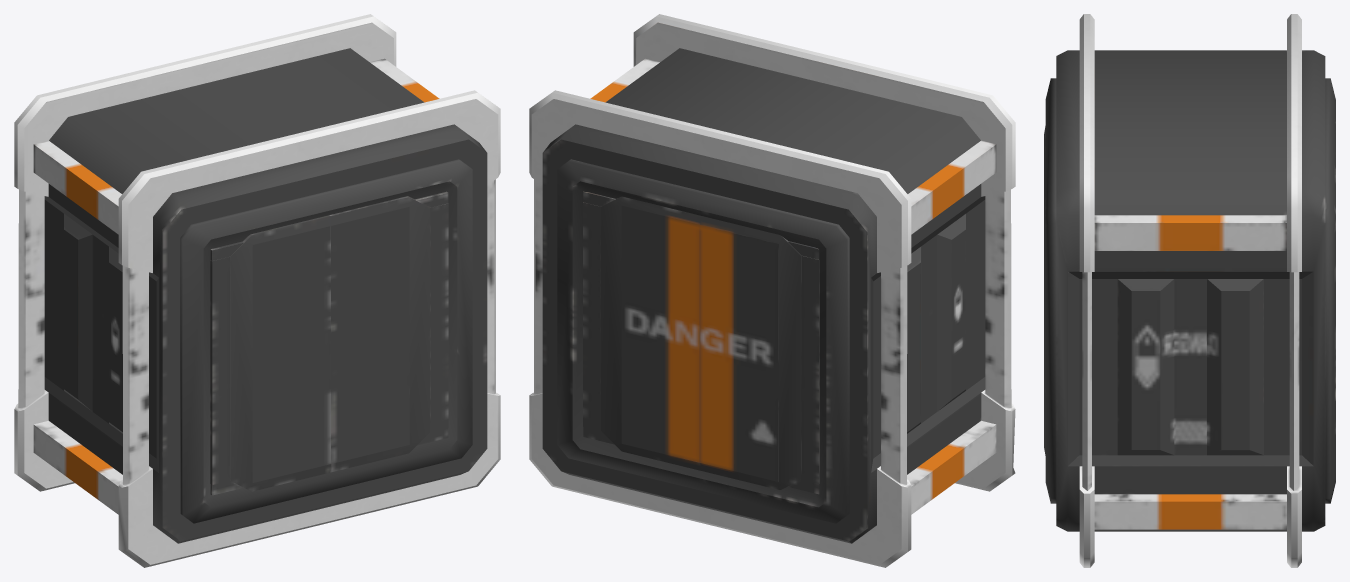
The model's file is Pfb_JLABContainer__4.fbx.
The picture shows the model from 3 angles, left to right: view 1: azimuth 30°, elevation 25°; view 2: azimuth 150°, elevation 25°; view 3: azimuth 270°, elevation 25°; orthographic projection.
Visible parts, largest first — view 1: MAT_JLABContainer_01; view 2: MAT_JLABContainer_01; view 3: MAT_JLABContainer_01.
Boxes of the visible parts, x1,y1,x2,y2 form: MAT_JLABContainer_01: (14,14,500,567); MAT_JLABContainer_01: (529,14,1015,567); MAT_JLABContainer_01: (1044,14,1335,567).
Size of the model in its own units: 2.14 by 2.13 by 1.44.
1 material, 1 textured.
